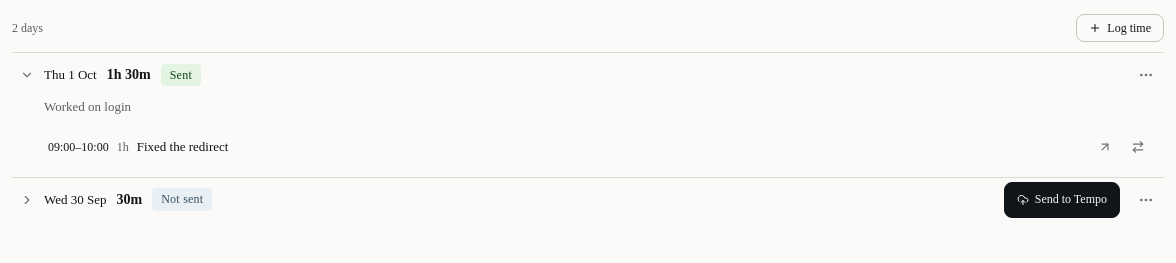
Test: edit the day › rejects hours that are not a half-hour step
The image size is (1176, 263).
expect the text "2 days" is shown: met, box x1=12 y1=19 x2=43 y2=37
Click the button named "More for Thu 1 Oct" at (1146, 75), box x1=1128 y1=57 x2=1164 y2=93
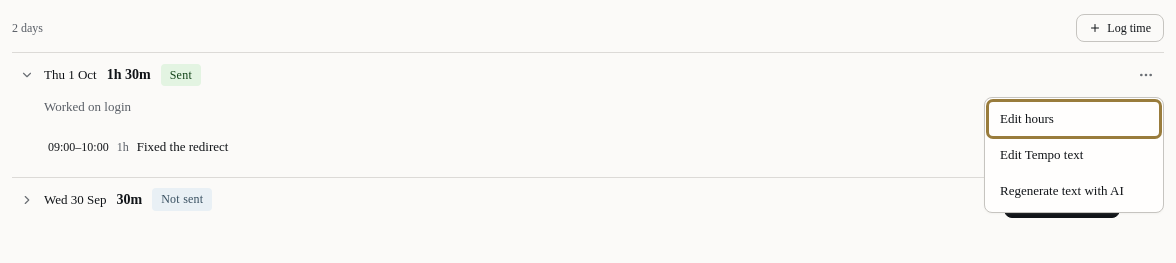
Click the menu item "Edit hours" at (1074, 119), box x1=989 y1=102 x2=1159 y2=136
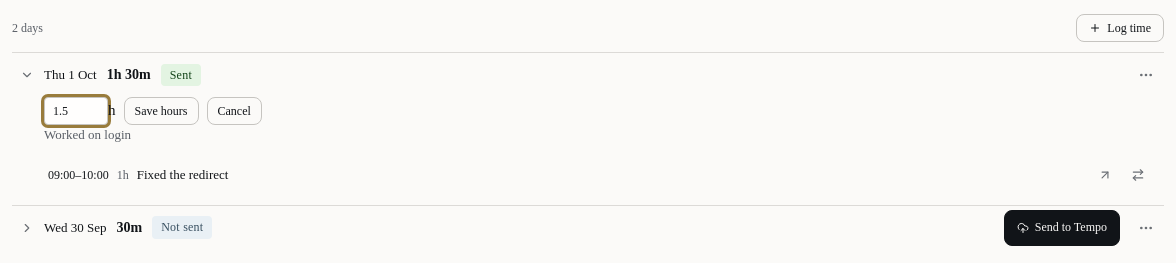
Replace the text in the field named "Hours for Thu 1 Oct" with "1.3" at (76, 111), box x1=44 y1=97 x2=108 y2=125
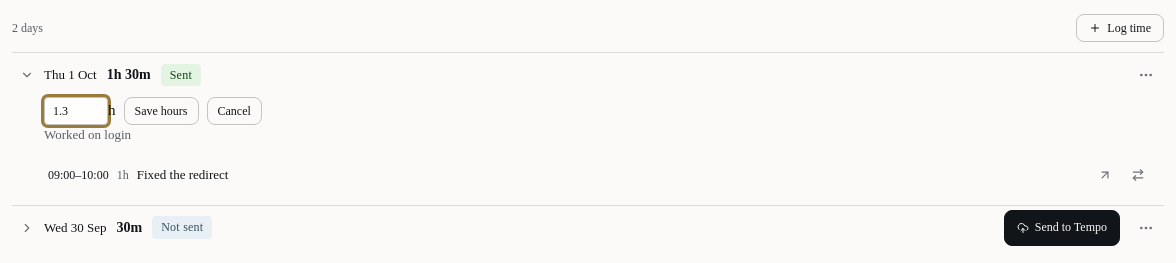
Click the button "Save hours" at (161, 111), box x1=124 y1=97 x2=198 y2=125
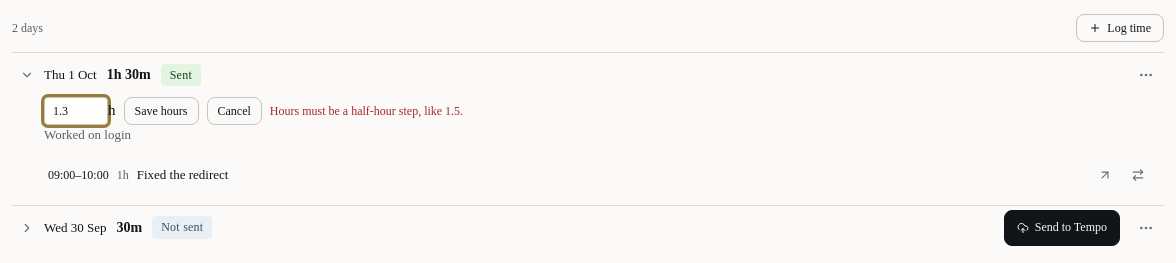
expect the text "Hours must be a half-hour step, like 1.5." is shown: met, box x1=270 y1=102 x2=463 y2=120
